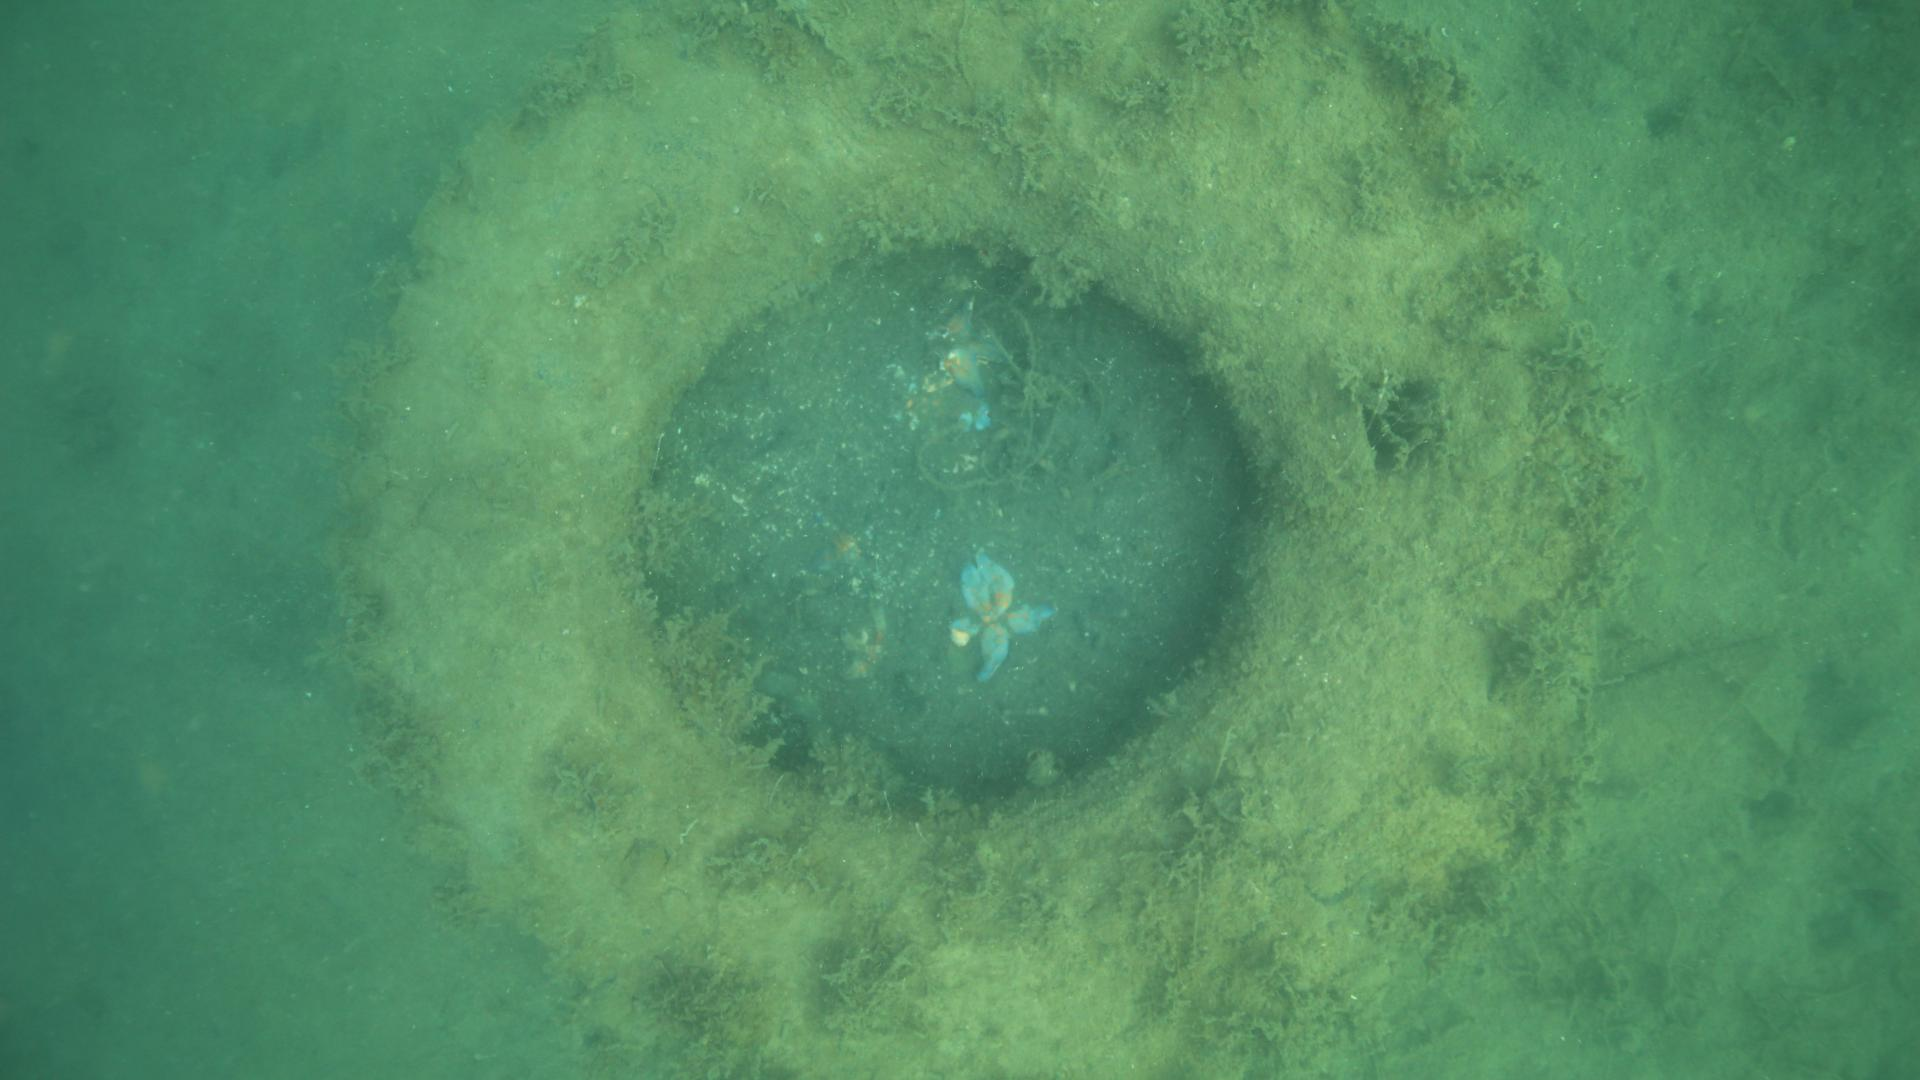tire: (347, 0, 1634, 1080)
